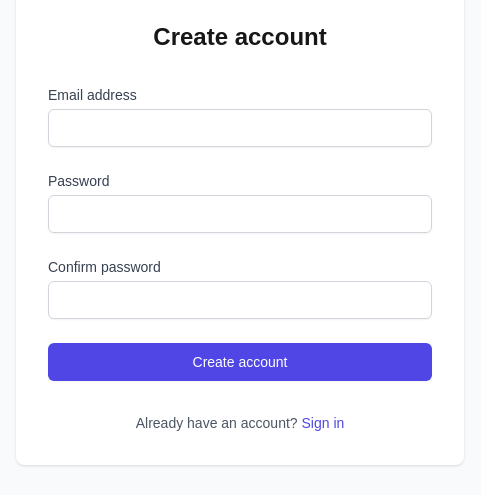
Test: RegisterPage › shows inline error when password is shorter than 8 characters and makes no network request
Type "alice@example.com" into the field labelled "Email address". click: coordinates (240, 128)
box: [48,109,432,147]
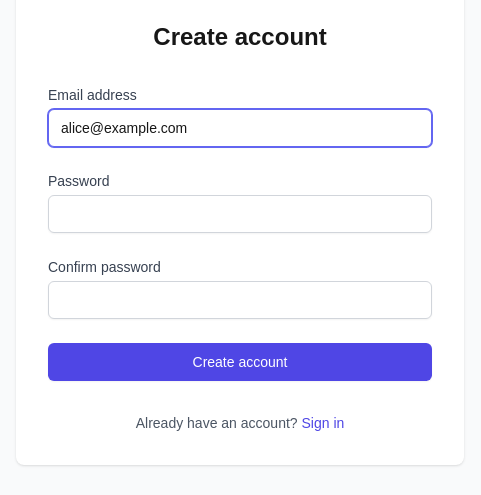
Type "short" into the password field labelled "Password". click: coordinates (240, 214)
box: [48,195,432,233]
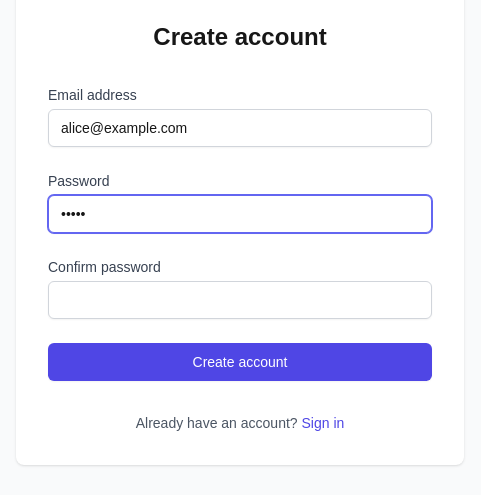
Type "short" into the password field labelled "Confirm password". click: coordinates (240, 300)
box: [48,281,432,319]
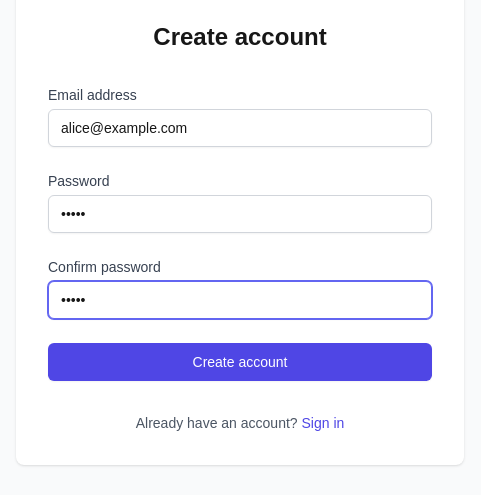
Click the button "Create account". click: coordinates (240, 362)
box: [48,343,432,381]
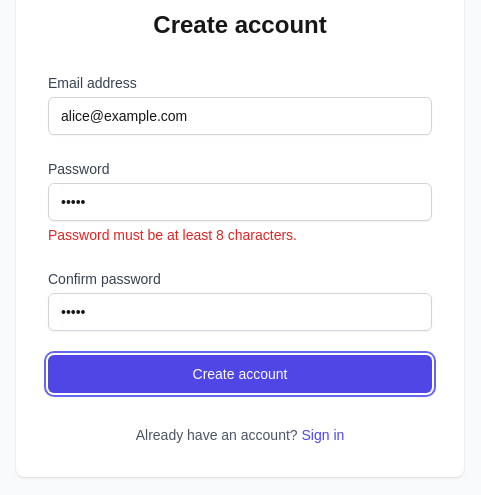
Expected: the text "Password must be at least 8 characters." is shown, [48,227,297,243]
